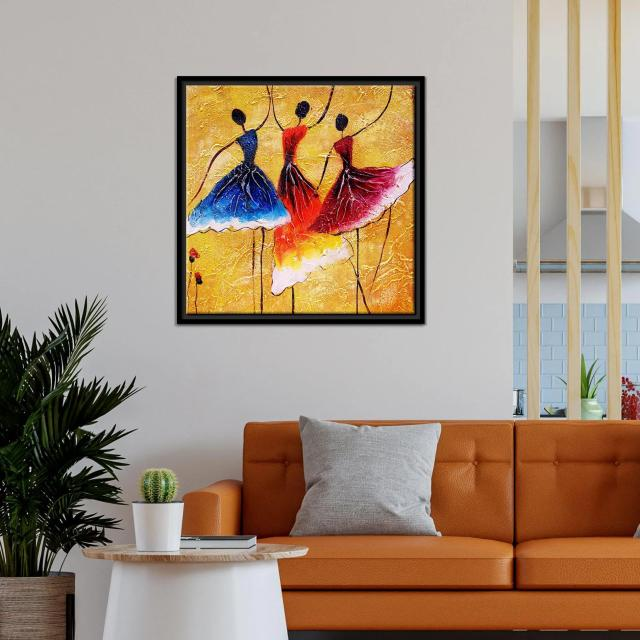painting: (178, 74, 426, 325)
